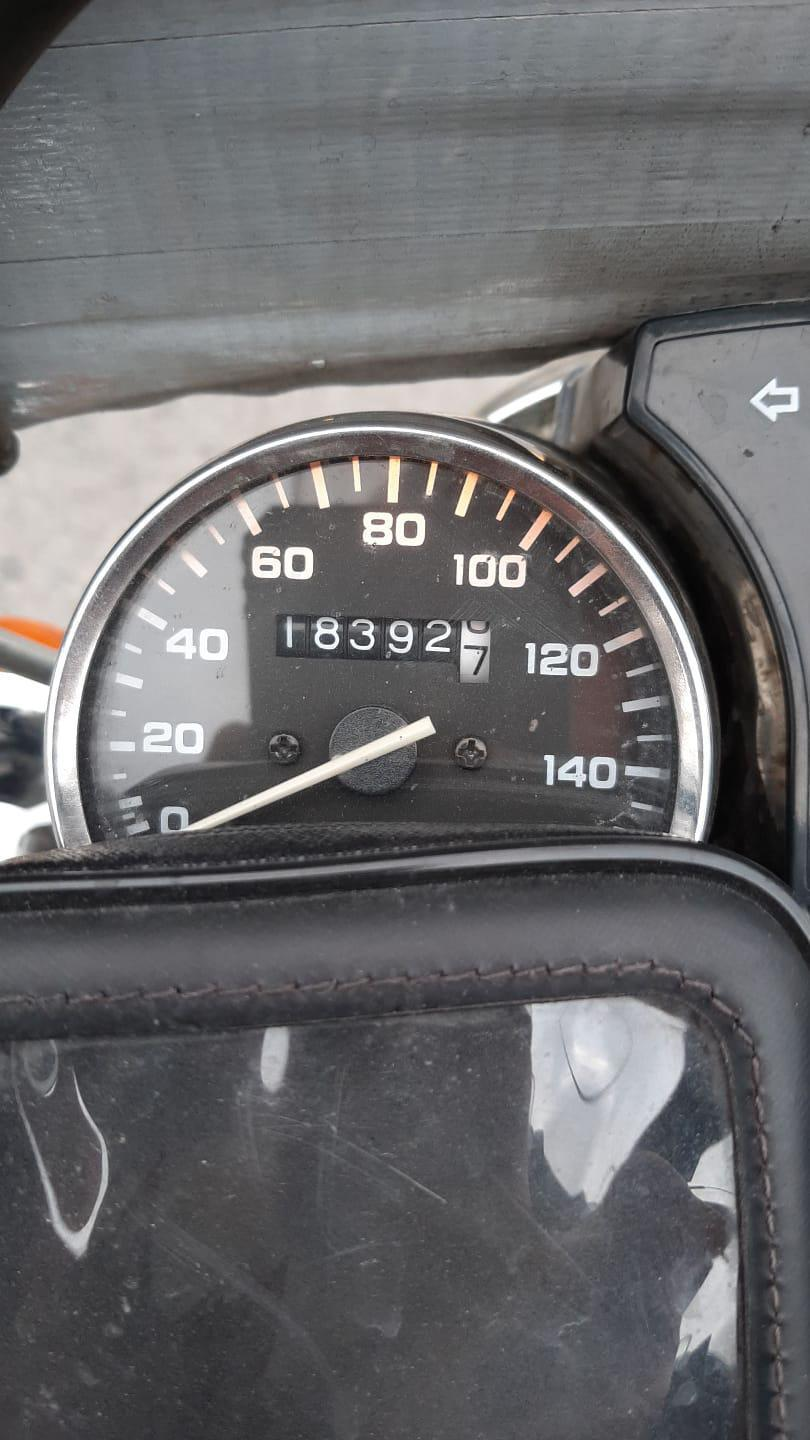1: (280, 613, 300, 650)
2: (423, 618, 453, 655)
3: (348, 616, 378, 652)
7: (460, 641, 489, 677)
8: (312, 615, 342, 651)
9: (386, 618, 415, 655)
odometer: (267, 606, 497, 688)
